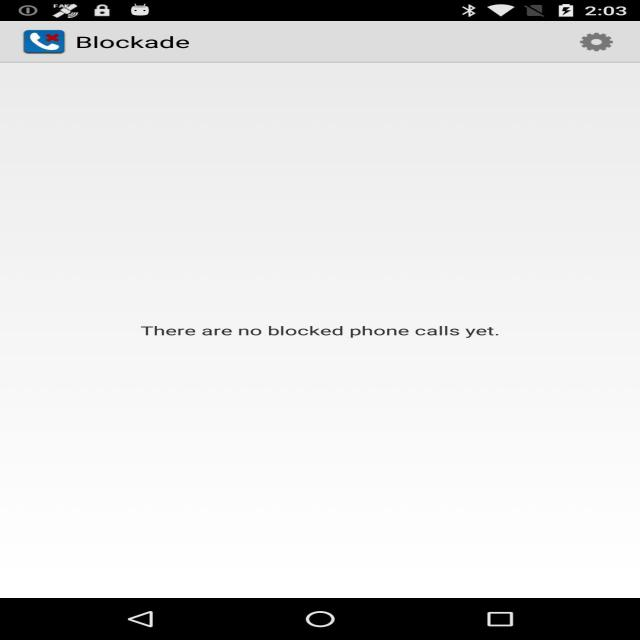button: (559, 28, 640, 62)
image: (15, 26, 80, 56)
text: (138, 315, 542, 352), (75, 29, 230, 58)
